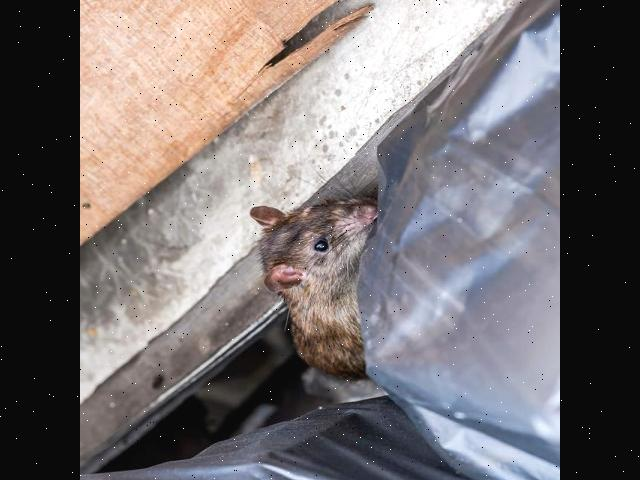Tikus: (250, 200, 380, 374)
